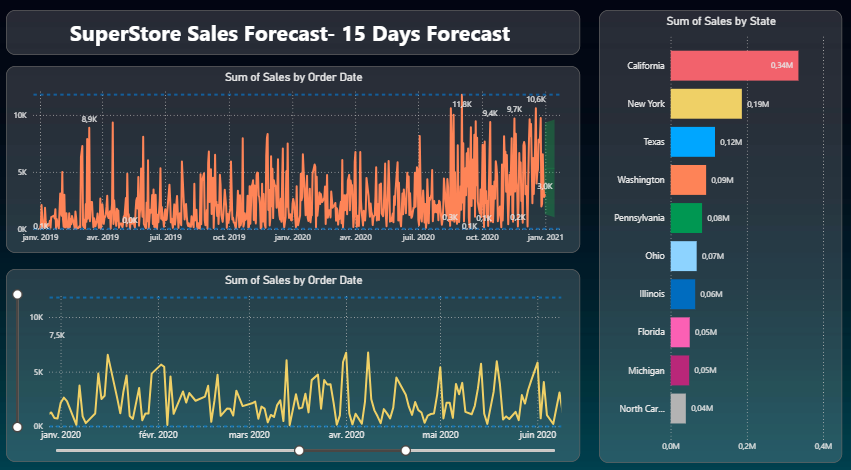

The dashboard page shown, as its layout file describes it:
{"tool":"powerbi","page":{"name":"Page 2","canvas":[1280,720],"ordinal":1},"visuals":[{"type":"lineChart","fields":{"Y":["Sum(SuperStore_Sales_Dataset.Sales)"],"Category":["SuperStore_Sales_Dataset.Order Date"]},"box":[10.4,98.5,856.7,279.1],"z":0},{"type":"lineChart","fields":{"Y":["Sum(SuperStore_Sales_Dataset.Sales)"],"Category":["SuperStore_Sales_Dataset.Order Date"]},"box":[10.4,401.5,856.7,288.1],"z":1000},{"type":"clusteredBarChart","fields":{"Y":["Sum(SuperStore_Sales_Dataset.Sales)"],"Category":["SuperStore_Sales_Dataset.State"]},"box":[895.7,14.3,362.9,675.7],"z":2000},{"type":"textbox","box":[10.4,14.9,856.7,67.2],"z":3000}]}

Visuals, with their boxes in screenshot pixels (x1, y1, x2, y2), scaled from the page's 1280x720 canvas onto the 851x470 screenshot:
lineChart - Sum(SuperStore_Sales_Dataset.Sales) x SuperStore_Sales_Dataset.Order Date: <box>7,64,576,246</box>
lineChart - Sum(SuperStore_Sales_Dataset.Sales) x SuperStore_Sales_Dataset.Order Date: <box>7,262,576,450</box>
clusteredBarChart - Sum(SuperStore_Sales_Dataset.Sales) x SuperStore_Sales_Dataset.State: <box>596,9,837,450</box>
textbox: <box>7,10,576,54</box>
